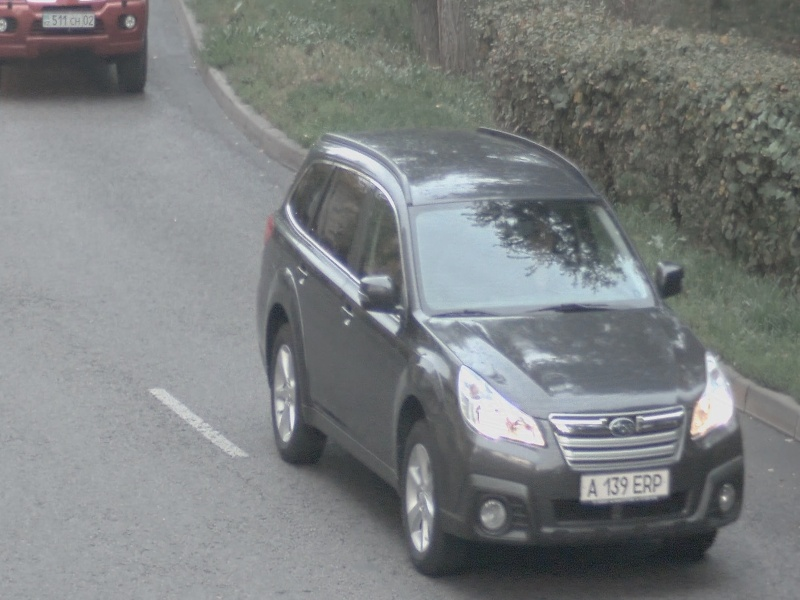plate: (580, 468, 670, 503), (42, 12, 95, 28)
